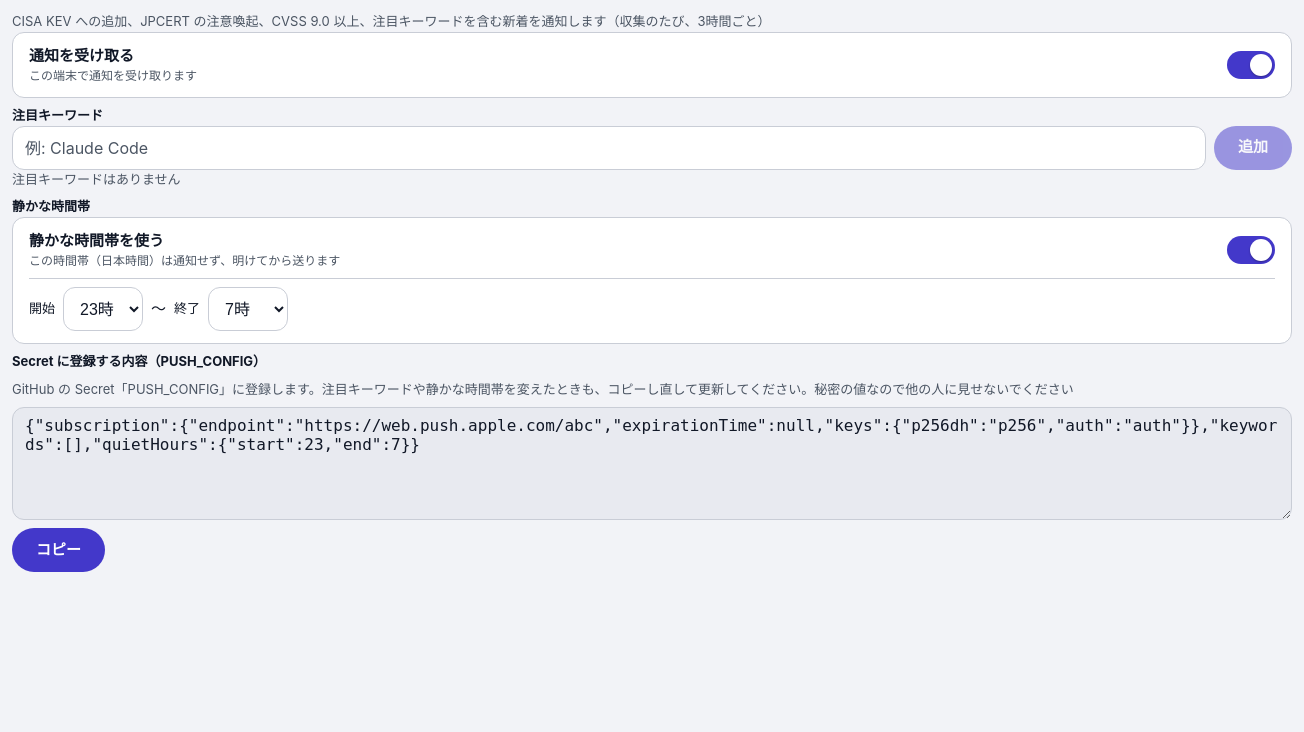
Scenario: NotificationSettings › 注目キーワードや静かな時間帯を変えると、登録する内容も変わり、端末内に保存する
The image size is (1304, 732).
Expected: the switch labelled "通知を受け取る" is checked, [1227,51,1275,79]
Type "MCP" into the field named "注目キーワード".
click(609, 148); type("MCP")  # box [12,126,1206,170]
Then press Enter
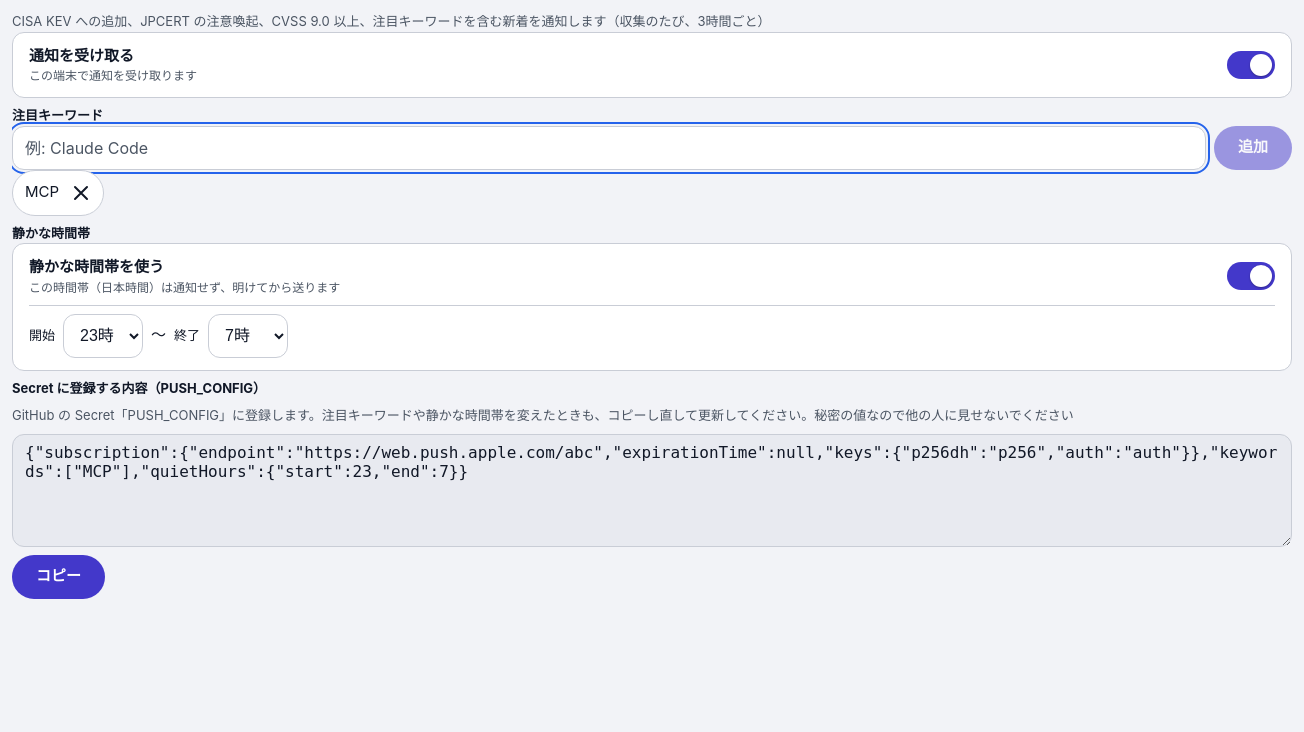
Select "22時" in the dropdown labelled "開始" at {"x": 103, "y": 336}, box [63,314,143,358]
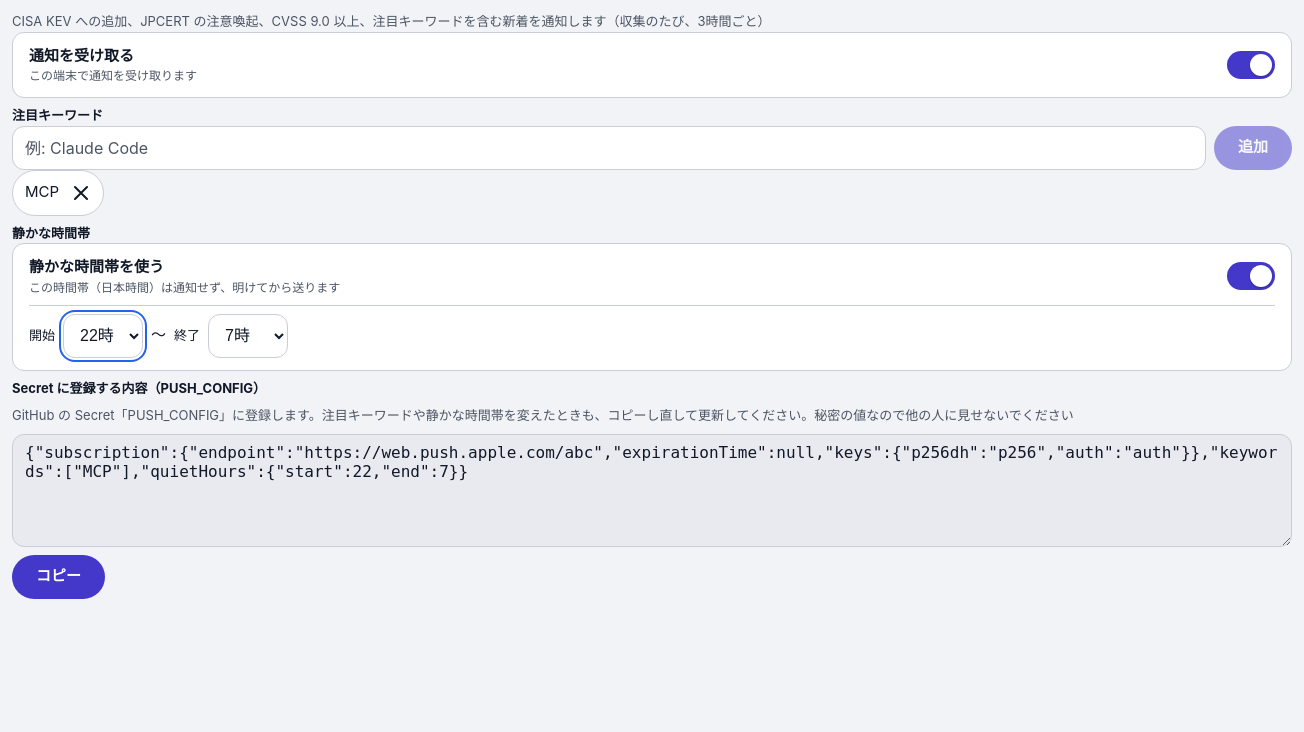
Click the switch labelled "静かな時間帯を使う".
click(1251, 276)  # box [1227,262,1275,290]
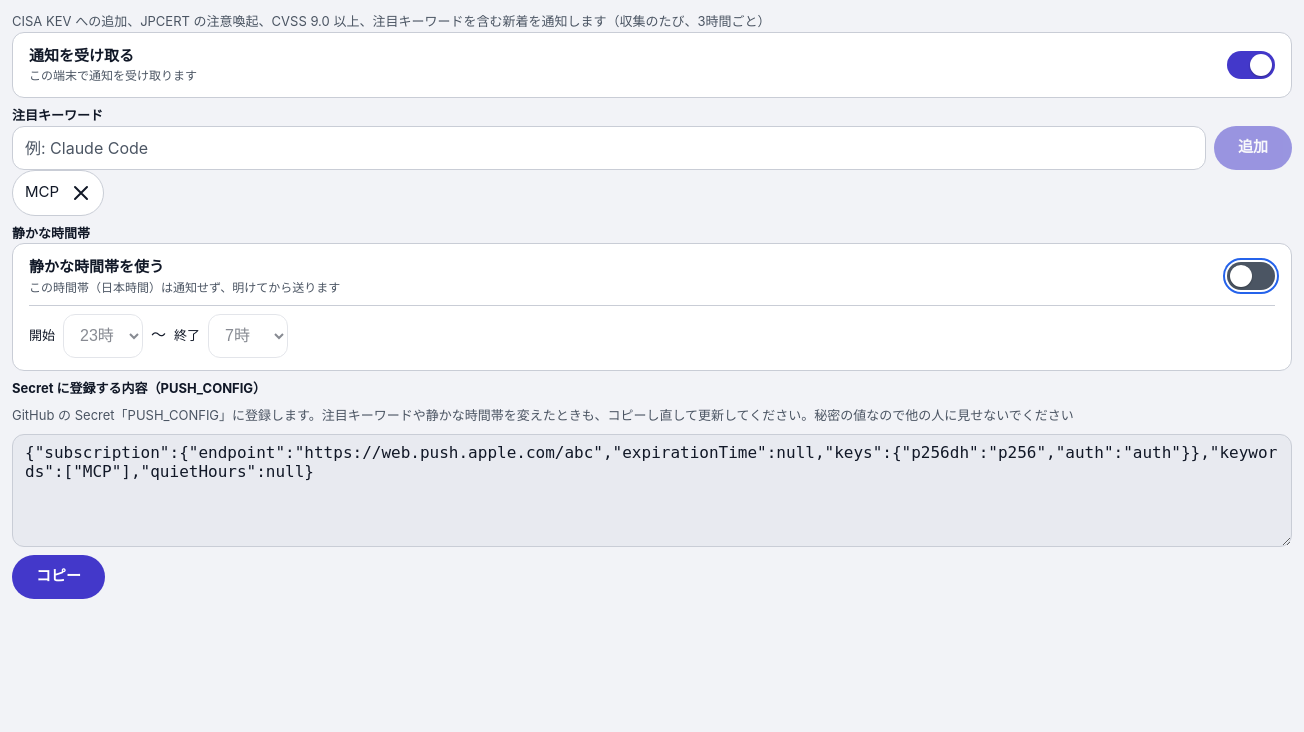
Expected: the dropdown labelled "開始" is disabled, [63,314,143,358]
